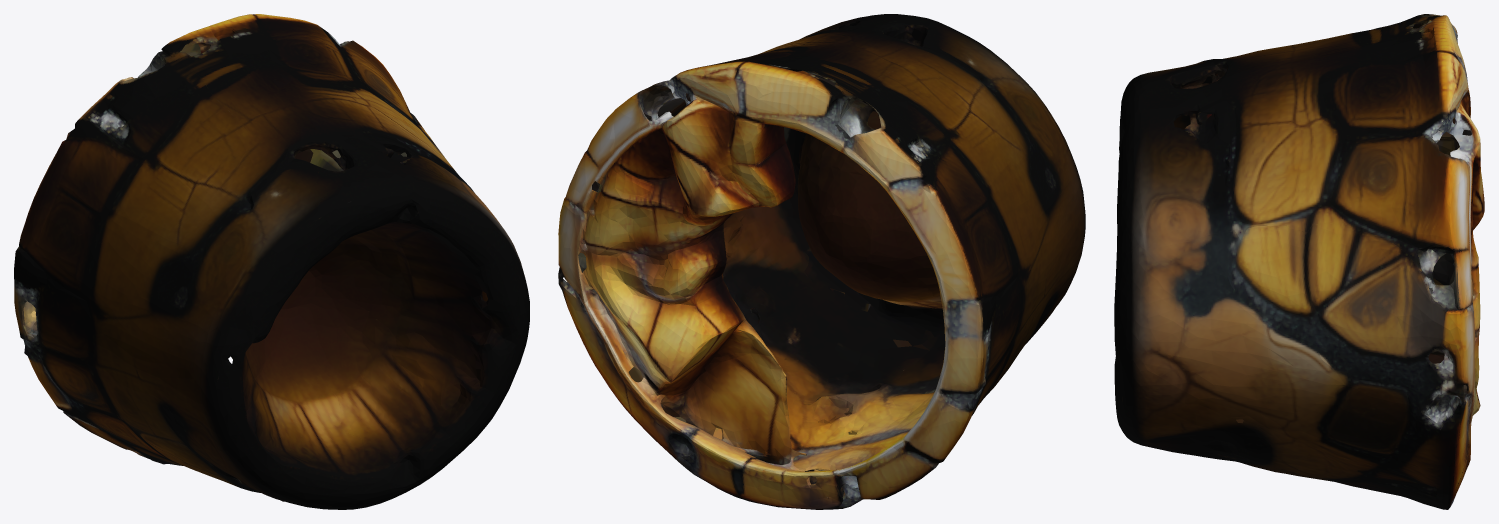
Rendered from fossilized-wood-ring-rustic.jpeg.glb.
3 views of the same model, side by side, from view 1: azimuth 30°, elevation 25°; view 2: azimuth 150°, elevation 25°; view 3: azimuth 270°, elevation 25° (orthographic). The views are drawn at different scales.
Visible parts, largest first — view 1: world; view 2: world; view 3: world.
Boxes of the visible parts, box(x1,y1,x2,y2) form: world: box(14, 14, 529, 509); world: box(558, 14, 1085, 509); world: box(1114, 14, 1484, 509).
Bounding box in the file's own units: 0.9999 × 0.9969 × 0.7437.
1 material, 1 textured.
